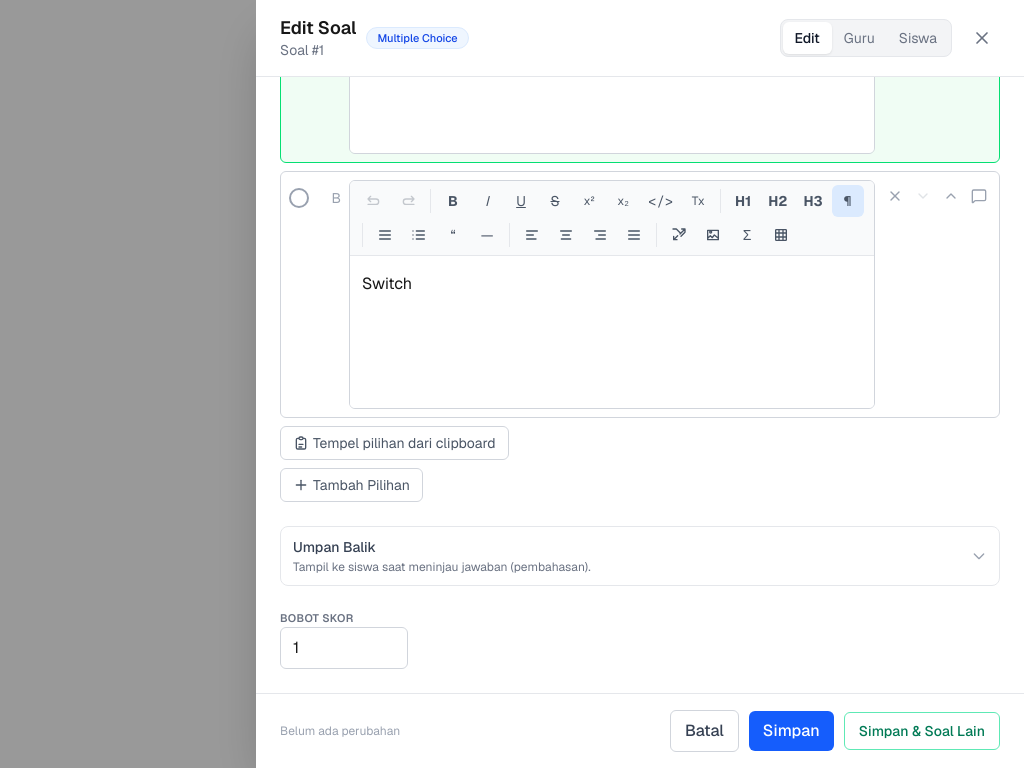
Test: QuestionEditor preview toggle › reflects the latest unsaved edits in the teacher preview
(page scrolled)
Replace the text in the number field labelled "Bobot Skor" with "2.5" at (344, 648), box [280, 626, 408, 668]
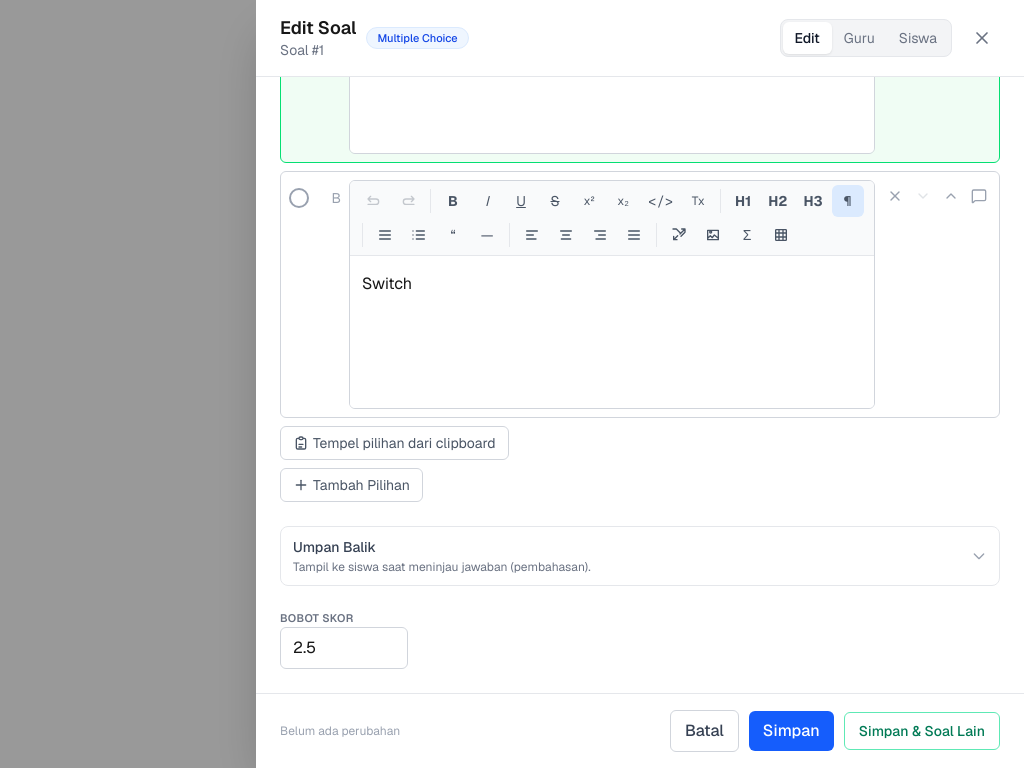
Click the button "Guru" at (859, 38), box [832, 22, 887, 54]
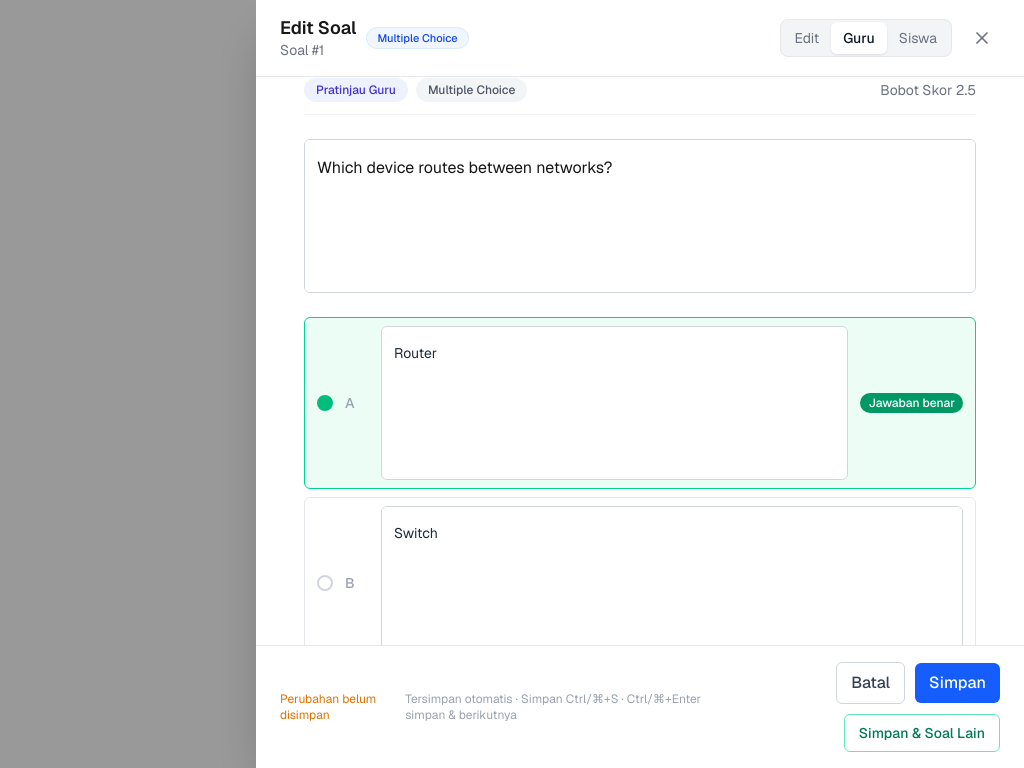
Expected: the element with test id "question-preview" shows "Bobot Skor 2.5", [304, 78, 976, 645]
